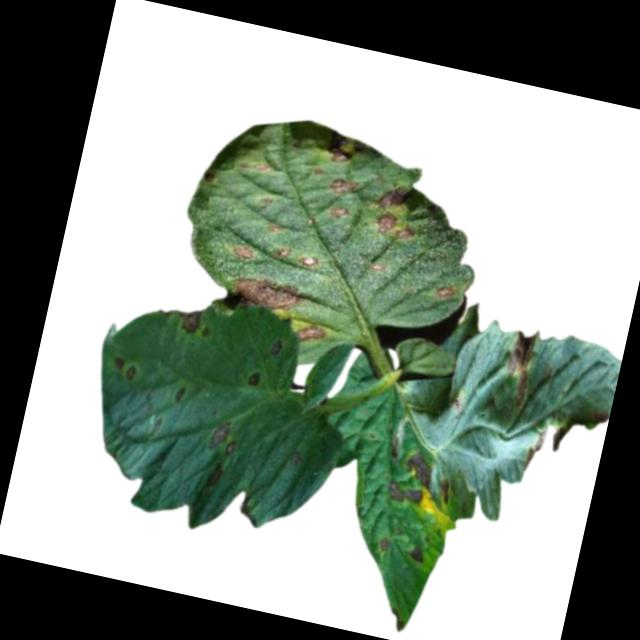Early_blight: (215, 268, 306, 331), (495, 324, 541, 407), (368, 208, 417, 245), (201, 417, 242, 459), (521, 421, 550, 475), (328, 131, 368, 168), (382, 477, 425, 510), (401, 450, 437, 487), (169, 305, 202, 339), (376, 180, 410, 212), (295, 321, 329, 349), (328, 174, 361, 202), (202, 460, 224, 493), (110, 356, 137, 382), (229, 241, 257, 266), (432, 279, 456, 304), (403, 544, 428, 567), (328, 202, 353, 224), (297, 251, 320, 273), (242, 368, 261, 391), (375, 535, 391, 554), (171, 386, 186, 404), (274, 246, 292, 261)
